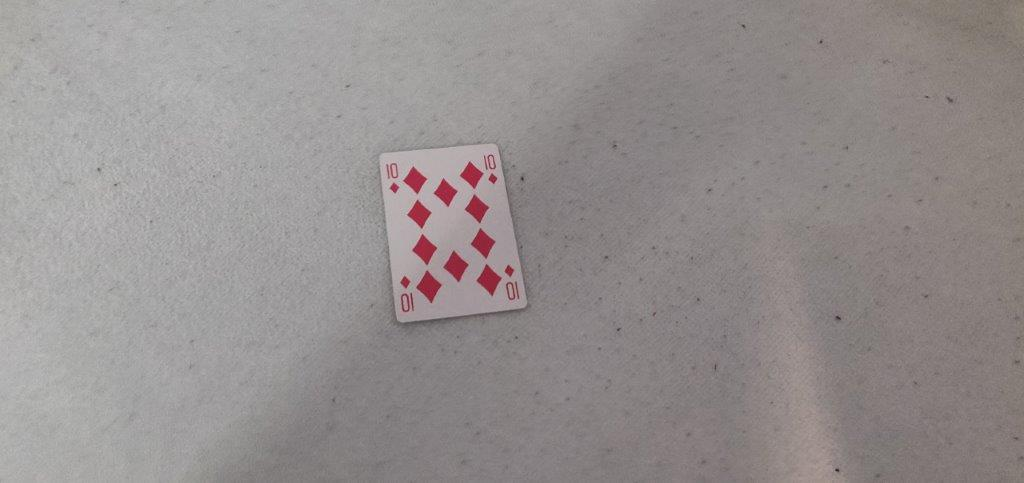10D: (381, 159, 404, 195), (482, 151, 502, 186)
